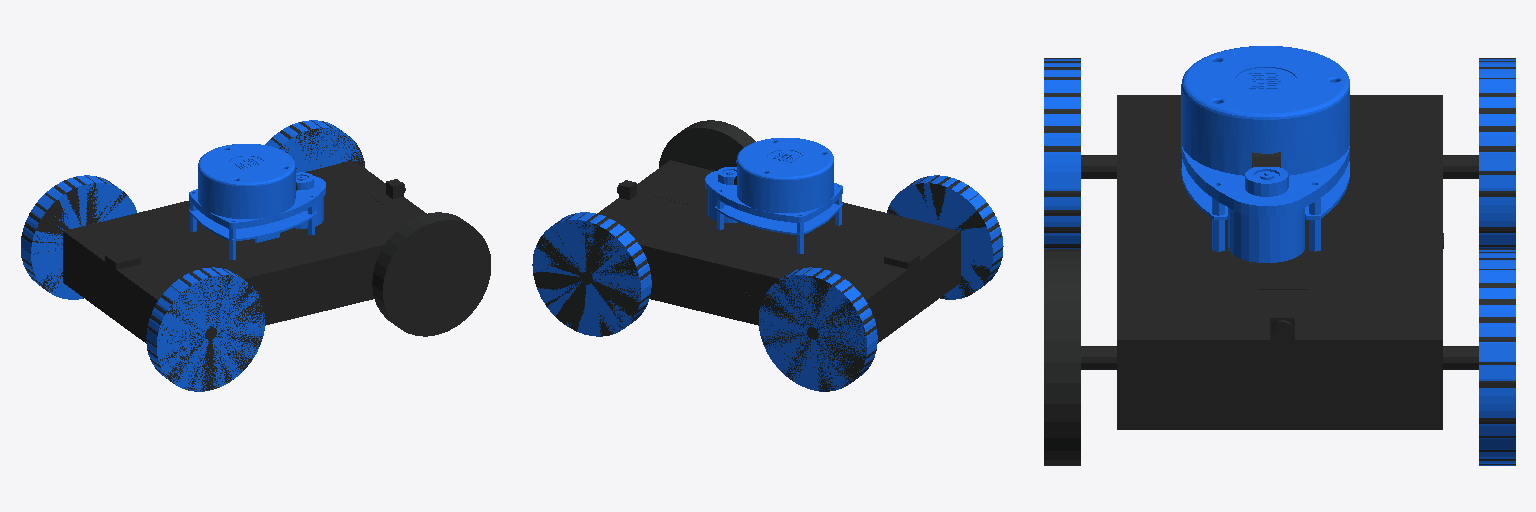
The robot description file, URDF, robot "ck":
<?xml version="1.0" encoding="utf-8"?>
<!-- This URDF was automatically created by SolidWorks to URDF Exporter! Originally created by [author] ([email redacted]) 
     Commit Version: 1.6.0-4-g7f85cfe  Build Version: 1.6.7995.38578
     For more information, please see http://wiki.ros.org/sw_urdf_exporter -->
<robot
  name="ck">

  <link name="base_footprint"/>

  <!-- Joint connecting base_footprint to base_link -->
  <joint name="joint_base_footprint" type="fixed">
    <parent link="base_footprint"/>
    <child link="base_link"/>
    <origin xyz="0.0 0.0 0.015" rpy="0.0 0.0 0.0"/>
  </joint>

  <link
    name="base_link">
    <inertial>
      <origin
        xyz="0.0841187968335356 0.112401722324964 0.178721217481401"
        rpy="0 0 0" />
      <mass
        value="9.65650931147462" />
      <inertia
        ixx="0.0480130155812075"
        ixy="-2.16128335468421E-08"
        ixz="2.86811488996925E-07"
        iyy="0.06169044482379"
        iyz="-1.5067102443124E-06"
        izz="0.0163609670809155" />
    </inertial>
    <visual>
      <origin
        xyz="0 0 0"
        rpy="0 0 0" />
      <geometry>
        <mesh
          filename="package://ck_control/meshes/base_link.STL" />
      </geometry>
      <material
        name="">
        <color
          rgba="0.2 0.2 0.2 1" />
      </material>
    </visual>
    <collision>
      <origin
        xyz="0 0 0"
        rpy="0 0 0" />
      <geometry>
        <mesh
          filename="package://ck_control/meshes/base_link.STL" />
      </geometry>
    </collision>
  </link>
  <link
    name="camera_Link">
    <inertial>
      <origin
        xyz="-5.1945E-14 2.7756E-17 -0.005992"
        rpy="0 0 0" />
      <mass
        value="0.0072806" />
      <inertia
        ixx="1.2321E-07"
        ixy="7.2268E-24"
        ixz="-5.4439E-23"
        iyy="1.2321E-07"
        iyz="-4.9685E-23"
        izz="1.1481E-07" />
    </inertial>
    <visual>
      <origin
        xyz="0 0 0"
        rpy="0 0 0" />
      <geometry>
        <mesh
          filename="package://ck_control/meshes/camera_Link.STL" />
      </geometry>
      <material
        name="">
        <color
          rgba="0.2 0.2 0.2 1" />
      </material>
    </visual>
    <collision>
      <origin
        xyz="0 0 0"
        rpy="0 0 0" />
      <geometry>
        <mesh
          filename="package://ck_control/meshes/camera_Link.STL" />
      </geometry>
    </collision>
  </link>
  <joint
    name="camera_joint"
    type="fixed">
    <origin
      xyz="0.12225 0.0010282 0.046"
      rpy="1.5708 0 1.5708" />
    <parent
      link="base_link" />
    <child
      link="camera_Link" />
    <axis
      xyz="0 0 0" />
    <limit
      lower="0"
      upper="0"
      effort="0"
      velocity="0" />
  </joint>

  
  <link
    name="lidar_Link">
    <inertial>
      <origin
        xyz="0 0 0"
        rpy="1.5708 1.5708 0" />
      <mass
        value="1.2284" />
      <inertia
        ixx="0.00056762"
        ixy="0.00014607"
        ixz="7.4029E-07"
        iyy="0.0010137"
        iyz="2.8538E-06"
        izz="0.0008868" />
    </inertial>
    <visual>
      <origin
        xyz="0 0 0"
        rpy="0 0 0" />
      <geometry>
        <mesh
          filename="package://ck_control/meshes/lidar_Link.STL" />
      </geometry>
  <material name="clearblue" >
    <color rgba="0.1411764705882353 0.47843137254901963 0.9921568627450981 1.0" />
  </material>
    </visual>
    <collision>
      <origin
        xyz="0 0 0"
        rpy="1.5708 1.5708 0" />
      <geometry>
        <mesh
          filename="package://ck_control/meshes/lidar_Link.STL" />
      </geometry>
    </collision>
  </link>
  <joint
    name="lidar_joint"
    type="fixed">
    <origin
      xyz="0 0 0"
      rpy="0 0 0" />
    <parent
      link="lidar_Link1" />
    <child
      link="lidar_Link" />
    <axis
      xyz="0 0 0" />
  </joint>
    


<link
    name="lidar_Link1">
    <inertial>
      <origin
        xyz="-0.0074835 0.010668 9.1926E-05"
        rpy="0 0 0" />
      <mass
        value="1.2284" />
      <inertia
        ixx="0.00056762"
        ixy="0.00014607"
        ixz="7.4029E-07"
        iyy="0.0010137"
        iyz="2.8538E-06"
        izz="0.0008868" />
    </inertial>
    <visual>
      <origin
        xyz="0 0 0"
        rpy="0 0 0" />
      <geometry>
            <cylinder length = "0.012" radius = "0.026"/>
      </geometry>
  <material name="darkgrey" >
    <color rgba="0.21176470588235294 0.21568627450980393 0.21568627450980393 1.0" />
  </material>
    </visual>
    <collision>
      <origin
        xyz="0 0 0"
        rpy="0 0 0" />
      <geometry>
            <cylinder length = "0.012" radius = "0.026"/>
      </geometry>
    </collision>
  </link>
  <joint
    name="lidar_joint1"
    type="fixed">
    <origin
      xyz="0.0034645 -0.0056967 0.0656"
      rpy="1.5708 0 0.0079677" />
    <parent
      link="base_link" />
    <child
      link="lidar_Link1" />
    <axis
      xyz="0 0 0" />
  </joint>
  <gazebo reference="lidar_Link1">
  <sensor type="ray" name="lidar_sensor">
    <pose>0 0 0 -1.5708 0 0</pose>
    <visualize>true</visualize>
    <update_rate>20</update_rate>
    <ray>
      <scan>
        <horizontal>
          <samples>360</samples>
          <resolution>1</resolution>
          <min_angle>-3.14159</min_angle>
          <max_angle>3.14159</max_angle>
        </horizontal>
      </scan>
      <range>
        <min>0.1</min>
        <max>30.0</max>
        <resolution>0.01</resolution>
      </range>
    </ray>
    <plugin name="lidar_controller" filename="libgazebo_ros_laser.so">
      <topicName>/ck/scan</topicName>
      <frameName>lidar_Link1</frameName>
    </plugin>
  </sensor>
</gazebo>



  <link
    name="left1_wheel_Link">
    <inertial>
      <origin
        xyz="0 0 0"
        rpy="0 0 0" />
      <mass
        value="0.678584013175395" />
      <inertia
        ixx="0.000360497756999429"
        ixy="-8.09870282623048E-40"
        ixz="-1.17025383189539E-18"
        iyy="0.000360497756999429"
        iyz="4.5364235985708E-37"
        izz="0.00069554861350478" />
    </inertial>
    <visual>
      <origin
        xyz="0 0 0"
        rpy="0 0 0" />
      <geometry>
        <mesh
          filename="package://ck_control/meshes/left1_wheel_Link.STL" />
      </geometry>    
  <material name="clearblue" >
    <color rgba="0.1411764705882353 0.47843137254901963 0.9921568627450981 1.0" />
  </material>
    </visual>
    <collision>
      <origin
        xyz="0 0 0"
        rpy="0 0 0" />
      <geometry>
        <mesh
          filename="package://ck_control/meshes/left1_wheel_Link.STL" />
      </geometry>
      <surface>
    <friction>
      <ode>
        <mu>1.0</mu>  <!-- Hệ số ma sát tĩnh -->
        <mu2>1.0</mu2>  <!-- Hệ số ma sát động -->
      </ode>
    </friction>
  </surface>
    </collision>
  </link>
  <joint
    name="left1_wheel_link_joint"
    type="fixed">
    <origin
      xyz="0 0 0"
      rpy="0 0 0" />
    <parent
      link="left1_wheel_Link1" />
    <child
      link="left1_wheel_Link" />
    <axis
      xyz="0 0 -1" />
    <dynamics
      damping="0.1"
      friction="0.1" />
  </joint>



<link
    name="left1_wheel_Link1">
    <inertial>
      <origin
        xyz="1.38777878078145E-17 2.77555756156289E-17 8.67361737988404E-19"
        rpy="0 0 0" />
      <mass
        value="0.678584013175395" />
      <inertia
        ixx="0.000360497756999429"
        ixy="-8.09870282623048E-40"
        ixz="-1.17025383189539E-18"
        iyy="0.000360497756999429"
        iyz="4.5364235985708E-37"
        izz="0.00069554861350478" />
    </inertial>
    <visual>
      <origin
        xyz="0 0 0"
        rpy="0 0 0" />
      <geometry>
        <cylinder length = "0.015" radius = "0.045"/>
      </geometry>    
  <material name="darkgrey" >
    <color rgba="0.21176470588235294 0.21568627450980393 0.21568627450980393 1.0" />
  </material>
    </visual>
    <collision>
      <origin
        xyz="0 0 0"
        rpy="0 0 0" />
      <geometry>
            <cylinder length = "0.015" radius = "0.045"/>
      </geometry>
      <surface>
    <friction>
      <ode>
        <mu>1.0</mu>  <!-- Hệ số ma sát tĩnh -->
        <mu2>1.0</mu2>  <!-- Hệ số ma sát động -->
      </ode>
    </friction>
  </surface>
    </collision>
  </link>
  <joint
    name="left1_wheel_link1_joint"
    type="continuous">
    <origin
      xyz="0.093647 0.090012 0.0205"
      rpy="-1.5708 0 3.1416" />
    <parent
      link="base_link" />
    <child
      link="left1_wheel_Link1" />
    <axis
      xyz="0 0 -1" />
    <dynamics
      damping="0.1"
      friction="0.1" />
    <limit effort="10.0" velocity="10.0"/>
  </joint>
  <transmission name="left1_wheel_trans">
  <type>transmission_interface/SimpleTransmission</type>
  <joint name="left1_wheel_link1_joint">
    <hardwareInterface>hardware_interface/VelocityJointInterface</hardwareInterface>
  </joint>
  <actuator name="left1_wheel_motor">
    <hardwareInterface>hardware_interface/VelocityJointInterface</hardwareInterface>
    <mechanicalReduction>1</mechanicalReduction>
  </actuator>
</transmission>



  <link
    name="left2_wheel_Link">
    <inertial>
      <origin
        xyz="0 0 0"
        rpy="0 0 0" />
      <mass
        value="0.67858" />
      <inertia
        ixx="0.0003605"
        ixy="-8.0987E-40"
        ixz="-1.1703E-18"
        iyy="0.0003605"
        iyz="4.5364E-37"
        izz="0.00069555" />
    </inertial>
    <visual>
      <origin
        xyz="0 0 0"
        rpy="0 0 0" />
      <geometry>
        <mesh
          filename="package://ck_control/meshes/left2_wheel_Link.STL" />
      </geometry>    
  <material name="clearblue" >
    <color rgba="0.1411764705882353 0.47843137254901963 0.9921568627450981 1.0" />
  </material>
    </visual>
    <collision>
      <origin
        xyz="0 0 0"
        rpy="0 0 0" />
      <geometry>
        <mesh
          filename="package://ck_control/meshes/left2_wheel_Link.STL" />
      </geometry>
      <surface>
    <friction>
      <ode>
        <mu>1.0</mu>  <!-- Hệ số ma sát tĩnh -->
        <mu2>1.0</mu2>  <!-- Hệ số ma sát động -->
      </ode>
    </friction>
  </surface>
    </collision>
  </link>
  <joint
    name="left2_wheel_link_joint"
    type="fixed">
    <origin
      xyz="0 0 0"
      rpy="0 0 0" />
    <parent
      link="left2_wheel_Link1" />
    <child
      link="left2_wheel_Link" />
    <axis
      xyz="0 0 -1" />
    <dynamics
      damping="0.1"
      friction="0.1" />
  </joint>


<link
    name="left2_wheel_Link1">
    <inertial>
      <origin
        xyz="0 0 1.7347E-18"
        rpy="0 0 0" />
      <mass
        value="0.67858" />
      <inertia
        ixx="0.0003605"
        ixy="-8.0987E-40"
        ixz="-1.1703E-18"
        iyy="0.0003605"
        iyz="4.5364E-37"
        izz="0.00069555" />
    </inertial>
    <visual>
      <origin
        xyz="0 0 0"
        rpy="0 0 0" />
      <geometry>
            <cylinder length = "0.015" radius = "0.045"/>
      </geometry>    
  <material name="darkgrey" >
    <color rgba="0.21176470588235294 0.21568627450980393 0.21568627450980393 1.0" />
  </material>
    </visual>
    <collision>
      <origin
        xyz="0 0 0"
        rpy="0 0 0" />
      <geometry>
            <cylinder length = "0.015" radius = "0.045"/>
      </geometry>
      <surface>
    <friction>
      <ode>
        <mu>1.0</mu>  <!-- Hệ số ma sát tĩnh -->
        <mu2>1.0</mu2>  <!-- Hệ số ma sát động -->
      </ode>
    </friction>
  </surface>
    </collision>
  </link>
  <joint
    name="left2_wheel_link1_joint"
    type="continuous">
    <origin
      xyz="-0.093219 0.090012 0.0205"
      rpy="-1.5708 0 3.1416" />
    <parent
      link="base_link" />
    <child
      link="left2_wheel_Link1" />
    <axis
      xyz="0 0 -1" />
    <dynamics
      damping="0.1"
      friction="0.1" />
    <limit effort="10.0" velocity="10.0"/>
  </joint>
  <transmission name="left2_wheel_trans">
  <type>transmission_interface/SimpleTransmission</type>
  <joint name="left2_wheel_link1_joint">
    <hardwareInterface>hardware_interface/VelocityJointInterface</hardwareInterface>
  </joint>
  <actuator name="left2_wheel_motor">
    <hardwareInterface>hardware_interface/VelocityJointInterface</hardwareInterface>
    <mechanicalReduction>1</mechanicalReduction>
  </actuator>
</transmission>



  <link
    name="right1_wheel_Link">
    <inertial>
      <origin
        xyz="0 0 0"
        rpy="0 0 0" />
      <mass
        value="0.678584013175396" />
      <inertia
        ixx="0.000360497756999429"
        ixy="-8.09870282622094E-40"
        ixz="-1.16725215888856E-18"
        iyy="0.000360497756999429"
        iyz="4.53642359857081E-37"
        izz="0.000695548613504781" />
    </inertial>
    <visual>
      <origin
        xyz="0 0 0"
        rpy="0 0 0" />
      <geometry>
        <mesh
          filename="package://ck_control/meshes/right1_wheel_Link.STL" />
      </geometry>
  <material name="clearblue" >
    <color rgba="0.1411764705882353 0.47843137254901963 0.9921568627450981 1.0" />
  </material>
    </visual>
    <collision>
      <origin
        xyz="0 0 0"
        rpy="0 0 0" />
      <geometry>
        <mesh
          filename="package://ck_control/meshes/right1_wheel_Link.STL" />
      </geometry>
    </collision>
    <surface>
    <friction>
      <ode>
        <mu>1.0</mu>  <!-- Hệ số ma sát tĩnh -->
        <mu2>1.0</mu2>  <!-- Hệ số ma sát động -->
      </ode>
    </friction>
  </surface>
  </link>
  <joint
    name="right1_wheel_link_joint"
    type="fixed">
    <origin
      xyz="0 0 0"
      rpy="0 0 0" />
    <parent
      link="right1_wheel_Link1" />
    <child
      link="right1_wheel_Link" />
    <axis
      xyz="0 0 1" />
    <dynamics
      damping="0.1"
      friction="0.1" />
  </joint>


<link
    name="right1_wheel_Link1">
    <inertial>
      <origin
        xyz="0 0 2.77555756156289E-17"
        rpy="0 0 0" />
      <mass
        value="0.678584013175396" />
      <inertia
        ixx="0.000360497756999429"
        ixy="-8.09870282622094E-40"
        ixz="-1.16725215888856E-18"
        iyy="0.000360497756999429"
        iyz="4.53642359857081E-37"
        izz="0.000695548613504781" />
    </inertial>
    <visual>
      <origin
        xyz="0 0 0"
        rpy="0 0 0" />
      <geometry>
             <cylinder length = "0.015" radius = "0.045"/>
      </geometry>
  <material name="darkgrey" >
    <color rgba="0.21176470588235294 0.21568627450980393 0.21568627450980393 1.0" />
  </material>
    </visual>
    <collision>
      <origin
        xyz="0 0 0"
        rpy="0 0 0" />
      <geometry>
            <cylinder length = "0.015" radius = "0.045"/>
      </geometry>
      <surface>
    <friction>
      <ode>
        <mu>1.0</mu>  <!-- Hệ số ma sát tĩnh -->
        <mu2>1.0</mu2>  <!-- Hệ số ma sát động -->
      </ode>
    </friction>
  </surface>
    </collision>
  </link>
  <joint
    name="right1_wheel_link1_joint"
    type="continuous">
    <origin
      xyz="0.093645 -0.090012 0.0205"
      rpy="-1.5708 0 3.1416" />
    <parent
      link="base_link" />
    <child
      link="right1_wheel_Link1" />
    <axis
      xyz="0 0 1" />
    <dynamics
      damping="0.1"
      friction="0.1" />
    <limit effort="10.0" velocity="10.0"/>
  </joint>
  <transmission name="right1_wheel_trans">
  <type>transmission_interface/SimpleTransmission</type>
  <joint name="right1_wheel_link1_joint">
    <hardwareInterface>hardware_interface/VelocityJointInterface</hardwareInterface>
  </joint>
  <actuator name="right1_wheel_motor">
    <hardwareInterface>hardware_interface/VelocityJointInterface</hardwareInterface>
    <mechanicalReduction>1</mechanicalReduction>
  </actuator>
</transmission>



  <link
    name="right2_wheel_Link">
    <inertial>
      <origin
        xyz="0 0 0"
        rpy="0 0 0" />
      <mass
        value="0.678584013175395" />
      <inertia
        ixx="0.000360497756999428"
        ixy="-1.55490309620423E-21"
        ixz="6.28921963336042E-21"
        iyy="0.000360497756999428"
        iyz="4.64544632009739E-21"
        izz="0.000695548613504779" />
    </inertial>
    <visual>
      <origin
        xyz="0 0 0"
        rpy="0 0 0" />
      <geometry>
        <mesh
          filename="package://ck_control/meshes/right2_wheel_Link.STL" />
      </geometry>
  <material name="clearblue" >
    <color rgba="0.1411764705882353 0.47843137254901963 0.9921568627450981 1.0" />
  </material>
    </visual>
    <collision>
      <origin
        xyz="0 0 0"
        rpy="0 0 0" />
      <geometry>
        <mesh
          filename="package://ck_control/meshes/right2_wheel_Link.STL" />
      </geometry>
      <surface>
    <friction>
      <ode>
        <mu>1.0</mu>  <!-- Hệ số ma sát tĩnh -->
        <mu2>1.0</mu2>  <!-- Hệ số ma sát động -->
      </ode>
    </friction>
  </surface>
    </collision>
  </link>
  <joint
    name="right2_wheel_link_joint"
    type="fixed">
    <origin
      xyz="0 0 0"
      rpy="0 0 0" />
    <parent
      link="right2_wheel_Link1" />
    <child
      link="right2_wheel_Link" />
    <axis
      xyz="0 0 1" />
    <dynamics
      damping="0.1"
      friction="0.1" />
  </joint>


<link
    name="right2_wheel_Link1">
    <inertial>
      <origin
        xyz="0 -1.38777878078145E-17 -2.77555756156289E-17"
        rpy="0 0 0" />
      <mass
        value="0.678584013175395" />
      <inertia
        ixx="0.000360497756999428"
        ixy="-1.55490309620423E-21"
        ixz="6.28921963336042E-21"
        iyy="0.000360497756999428"
        iyz="4.64544632009739E-21"
        izz="0.000695548613504779" />
    </inertial>
    <visual>
      <origin
        xyz="0 0 0"
        rpy="0 0 0" />
      <geometry>
            <cylinder length = "0.015" radius = "0.045"/>
      </geometry>
  <material name="darkgrey" >
    <color rgba="0.21176470588235294 0.21568627450980393 0.21568627450980393 1.0" />
  </material>
    </visual>
    <collision>
      <origin
        xyz="0 0 0"
        rpy="0 0 0" />
      <geometry>
            <cylinder length = "0.015" radius = "0.045"/>
      </geometry>
      <surface>
    <friction>
      <ode>
        <mu>1.0</mu>  <!-- Hệ số ma sát tĩnh -->
        <mu2>1.0</mu2>  <!-- Hệ số ma sát động -->
      </ode>
    </friction>
  </surface>
    </collision>
  </link>
  <joint
    name="right2_wheel_link1_joint"
    type="continuous">
    <origin
      xyz="-0.093215 -0.090012 0.0205"
      rpy="-1.5708 0 3.1416" />
    <parent
      link="base_link" />
    <child
      link="right2_wheel_Link1" />
    <axis
      xyz="0 0 1" />
    <dynamics
      damping="0.1"
      friction="0.1" />
    <limit effort="10.0" velocity="10.0"/>
  </joint>
  <transmission name="right2_wheel_trans">
  <type>transmission_interface/SimpleTransmission</type>
  <joint name="right2_wheel_link1_joint">
    <hardwareInterface>hardware_interface/VelocityJointInterface</hardwareInterface>
  </joint>
  <actuator name="right2_wheel_motor">
    <hardwareInterface>hardware_interface/VelocityJointInterface</hardwareInterface>
    <mechanicalReduction>1</mechanicalReduction>
  </actuator>
</transmission>


<gazebo>
  <plugin name="gazebo_ros_control" filename="libgazebo_ros_control.so">
    <robotNamespace>/ck</robotNamespace>
    <robotSimType>gazebo_ros_control/DefaultRobotHWSim</robotSimType>
  </plugin>
</gazebo>
</robot>

--- Render facts (derived) ---
The picture shows the robot from 3 angles, left to right: view 1: azimuth 30°, elevation 25°; view 2: azimuth 150°, elevation 25°; view 3: azimuth 270°, elevation 25°; orthographic projection.
Robot: ck — 13 links, 12 joints (4 continuous, 8 fixed); root link base_footprint; default pose: every joint at zero.
Links seen in each view (by area): view 1: base_link, right1_wheel_Link1, lidar_Link, right2_wheel_Link, left2_wheel_Link, right2_wheel_Link1, left1_wheel_Link, left2_wheel_Link1, left1_wheel_Link1; view 2: base_link, lidar_Link, left2_wheel_Link, left1_wheel_Link, right2_wheel_Link, left1_wheel_Link1, left2_wheel_Link1, right1_wheel_Link1, right2_wheel_Link1; view 3: base_link, lidar_Link, right1_wheel_Link1, left1_wheel_Link, left2_wheel_Link, right2_wheel_Link, right2_wheel_Link1, left1_wheel_Link1, left2_wheel_Link1, camera_Link.
Boxes of the visible links, x1,y1,x2,y2 form: base_link: (63, 160, 426, 343); right1_wheel_Link1: (372, 212, 490, 336); lidar_Link: (189, 144, 325, 259); right2_wheel_Link: (146, 267, 264, 391); left2_wheel_Link: (21, 175, 136, 299); right2_wheel_Link1: (146, 267, 264, 391); left1_wheel_Link: (265, 120, 365, 172); left2_wheel_Link1: (21, 175, 126, 298); left1_wheel_Link1: (271, 120, 364, 168); base_link: (597, 160, 960, 343); lidar_Link: (705, 138, 842, 253); left2_wheel_Link: (759, 267, 877, 391); left1_wheel_Link: (532, 212, 651, 336); right2_wheel_Link: (888, 175, 1003, 299); left1_wheel_Link1: (533, 212, 650, 336); left2_wheel_Link1: (759, 267, 876, 391); right1_wheel_Link1: (659, 120, 755, 170); right2_wheel_Link1: (887, 175, 1002, 298); base_link: (1081, 95, 1478, 429); lidar_Link: (1181, 46, 1349, 262); right1_wheel_Link1: (1044, 249, 1080, 465); left1_wheel_Link: (1479, 250, 1515, 465); left2_wheel_Link: (1479, 59, 1515, 248); right2_wheel_Link: (1044, 59, 1080, 248); right2_wheel_Link1: (1044, 58, 1080, 247); left1_wheel_Link1: (1479, 249, 1515, 464); left2_wheel_Link1: (1479, 58, 1515, 246); camera_Link: (1270, 309, 1294, 339).
Bounding box of the posed robot: 0.2769 × 0.195 × 0.1232 m (x, y, z).
6 mesh visuals loaded from 7 distinct referenced files (6 binary STL); not drawn: 1 (reference not matched to a file when rendering).
